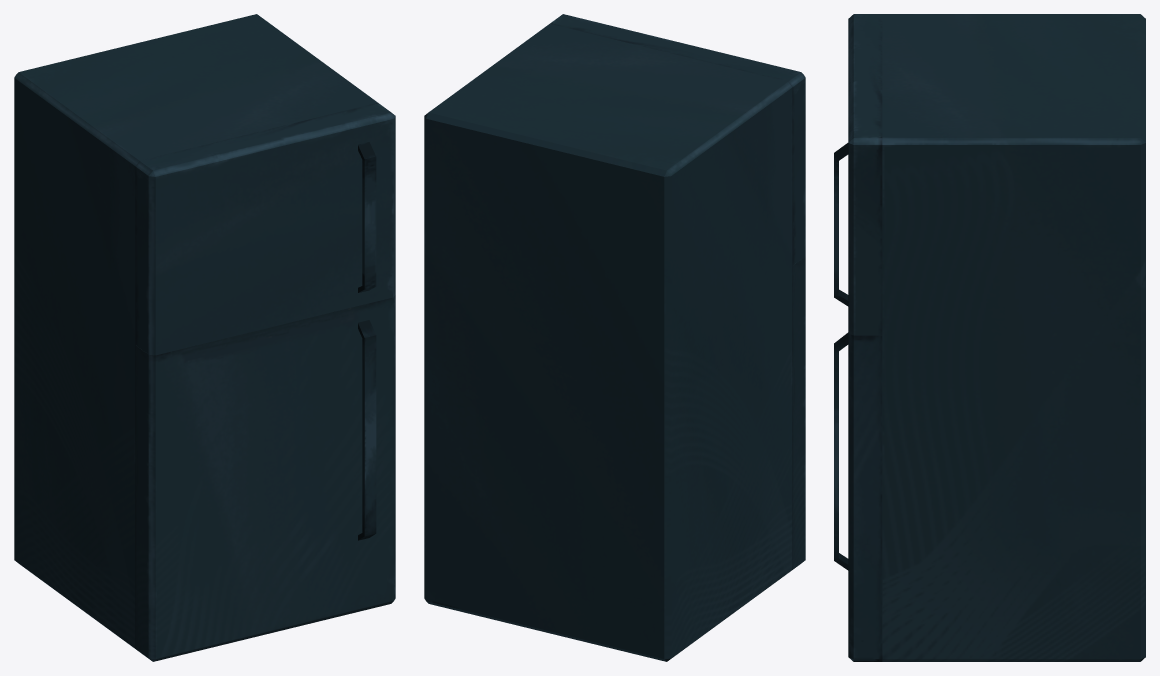
Rendered from MESH_Fridge_3_doors_v1.glb.
3 renders of one model, left to right at view 1: azimuth 30°, elevation 25°; view 2: azimuth 150°, elevation 25°; view 3: azimuth 270°, elevation 25°, orthographic. The views are drawn at different scales.
Visible parts, largest first — view 1: Plane.008, Cube.018, Cube.020; view 2: Plane.008, Cube.020, Cube.018; view 3: Plane.008, Cube.018, Cube.020.
Boxes of the visible parts, <box> form: Plane.008: <box>14,14,377,650</box>; Cube.018: <box>135,295,395,661</box>; Cube.020: <box>135,102,395,355</box>; Plane.008: <box>424,24,792,661</box>; Cube.020: <box>550,14,805,265</box>; Cube.018: <box>790,256,805,571</box>; Plane.008: <box>882,14,1145,661</box>; Cube.018: <box>834,332,882,661</box>; Cube.020: <box>834,14,882,335</box>.
Size of the model in its own units: 0.92 by 1.75 by 0.9433.
1 material, 1 textured.
